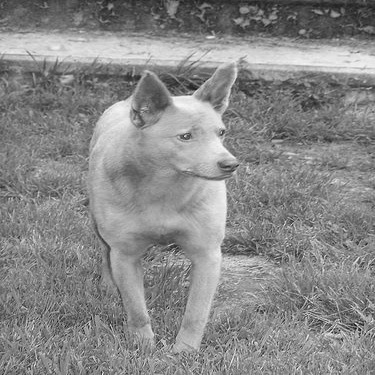dog: (77, 54, 243, 359)
